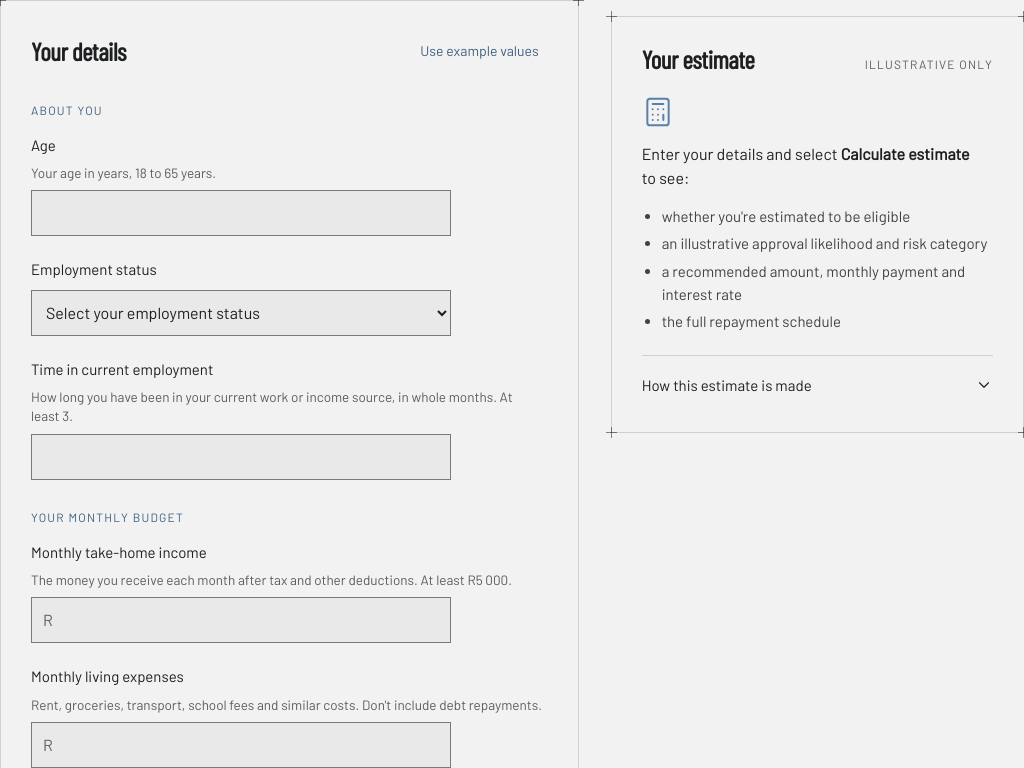
the expense helper › still sets the monthly expenses and marks the estimate out of date
Click the button "Use example values" at [480, 51], box [411, 29, 548, 73]
(page scrolled)
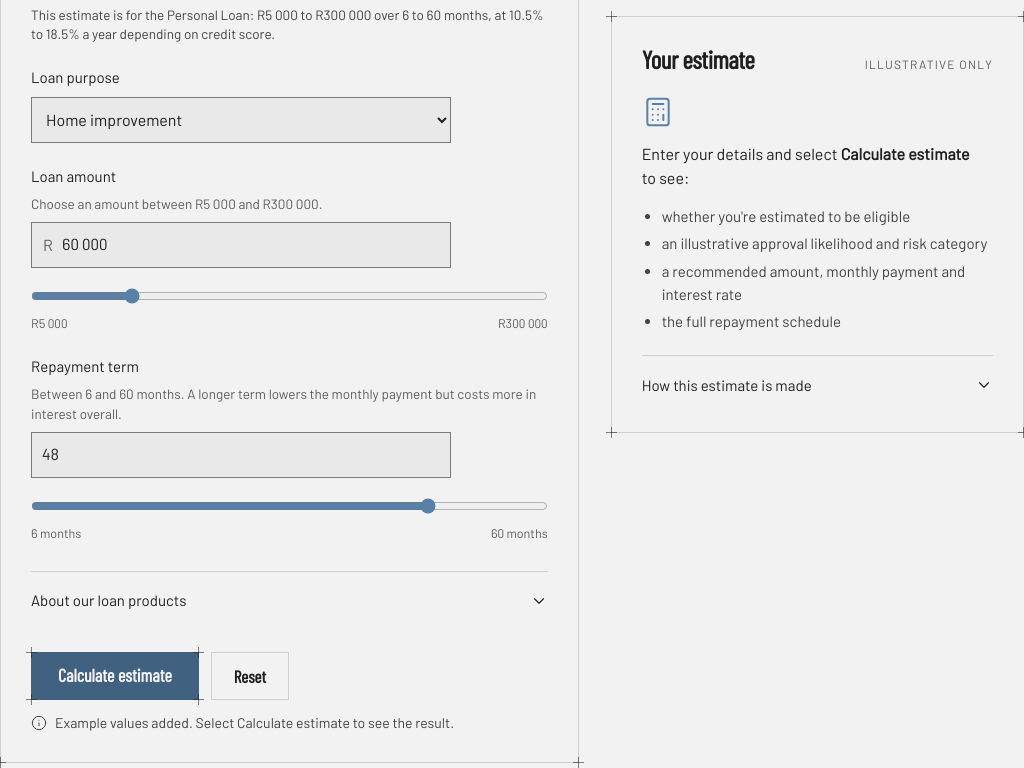
Click the button "Calculate estimate" at [115, 676], box [31, 652, 199, 700]
(page scrolled)
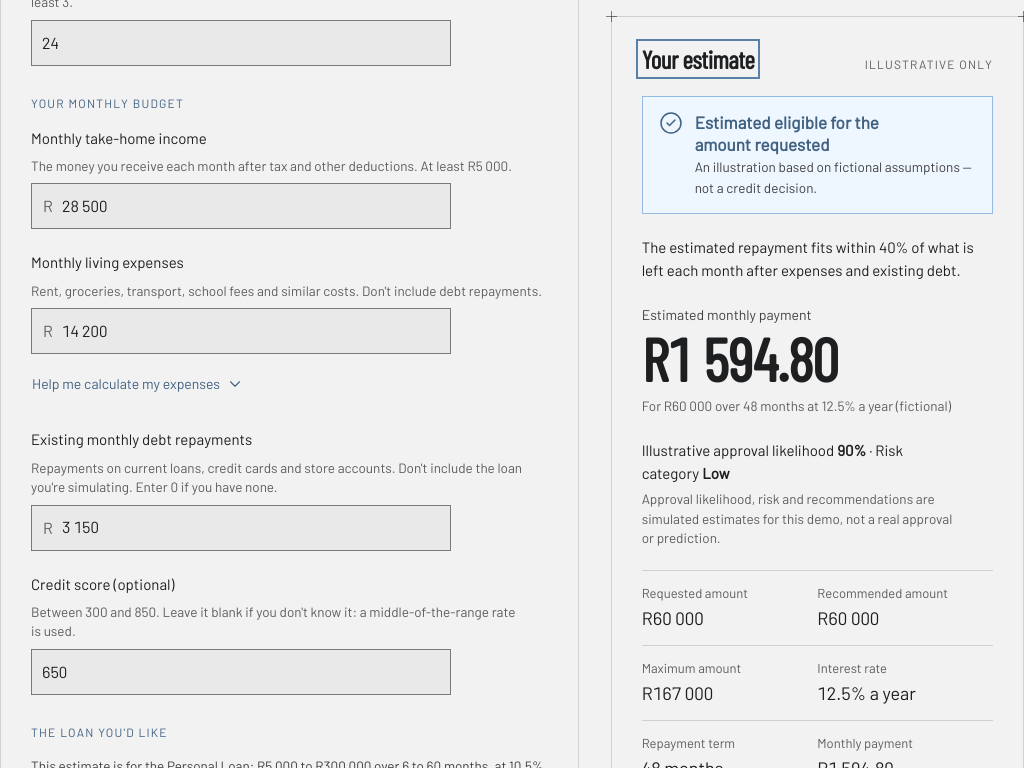
Now the text "Estimated monthly payment" is shown, box [642, 306, 812, 323]
Click the button "Help me calculate my expenses" at [138, 384], box [23, 362, 253, 406]
(page scrolled)
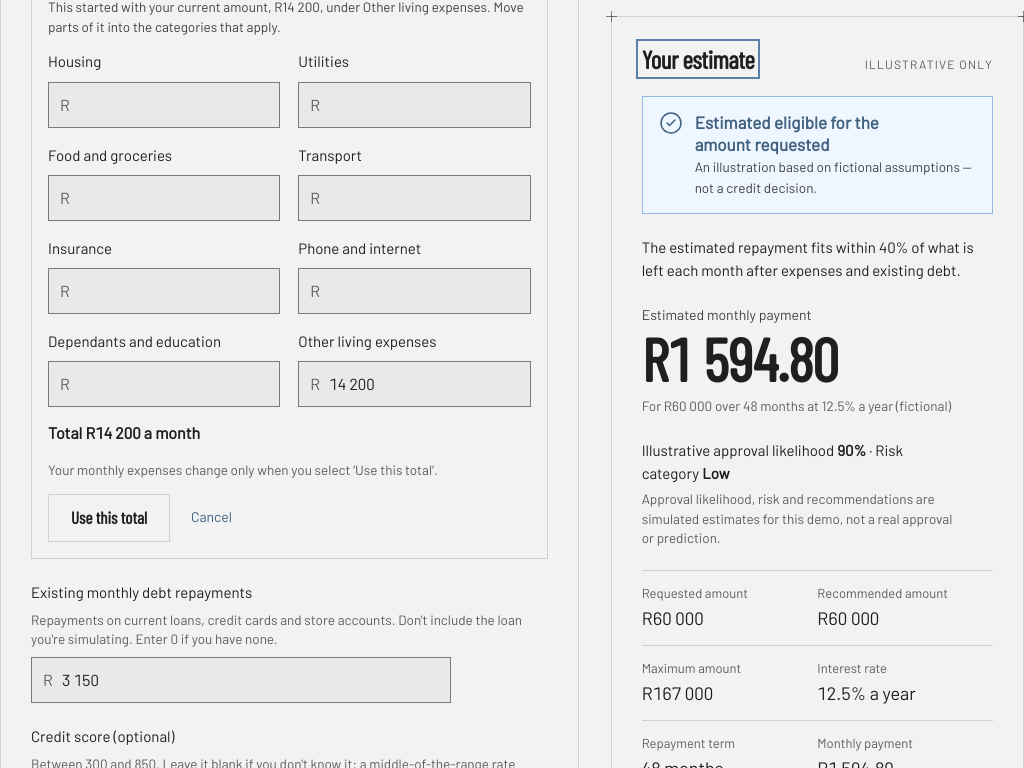
Replace the text in the field labelled "Other living expenses" with "9000" at [414, 384], box [298, 361, 531, 407]
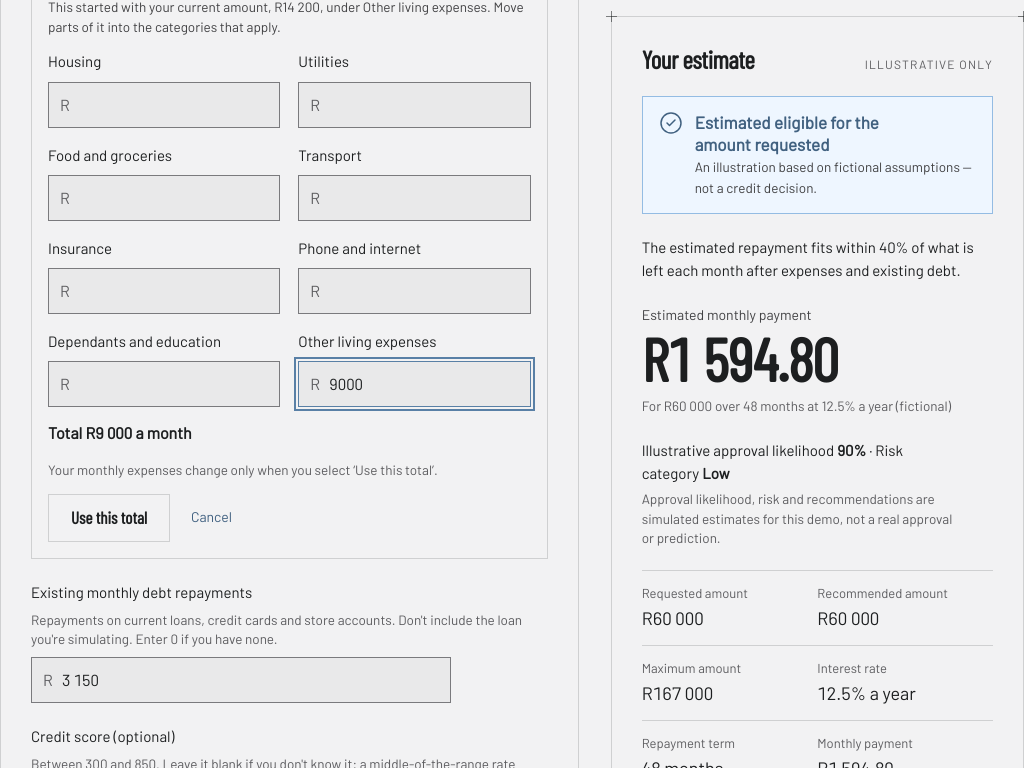
Click the button "Use this total" at [109, 518], box [48, 494, 170, 542]
(page scrolled)
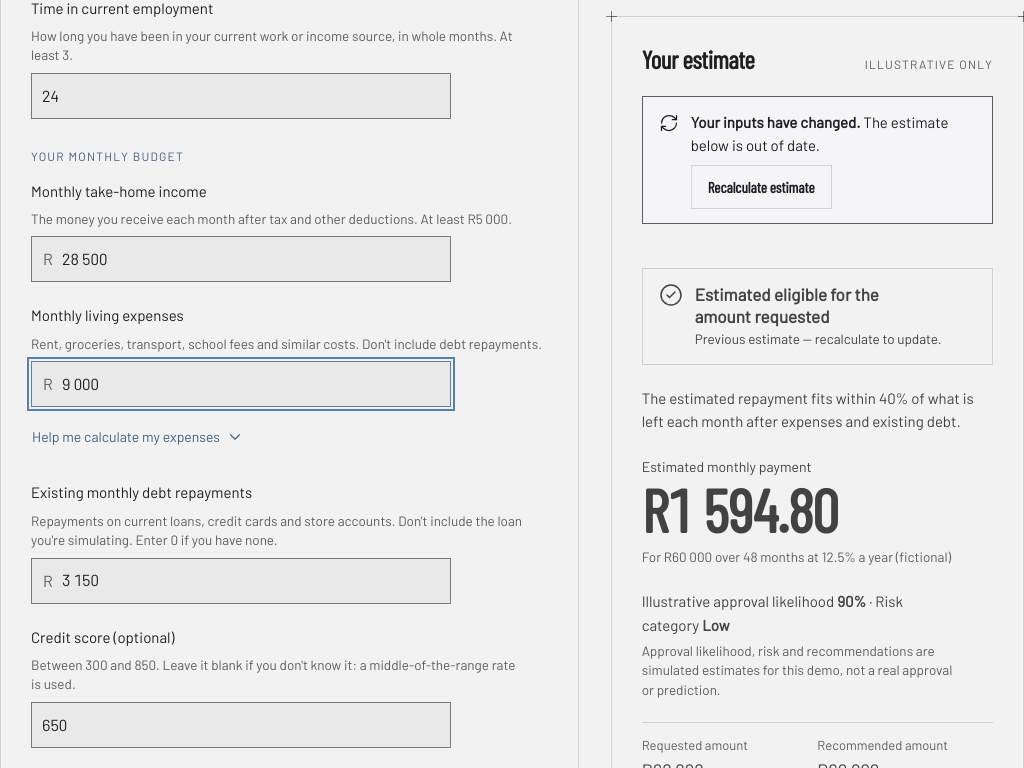
Now the field named "Monthly living expenses in rand" holds "9 000", box [31, 361, 451, 407]
Now the text "Your inputs have changed." is shown, box [691, 113, 860, 131]
